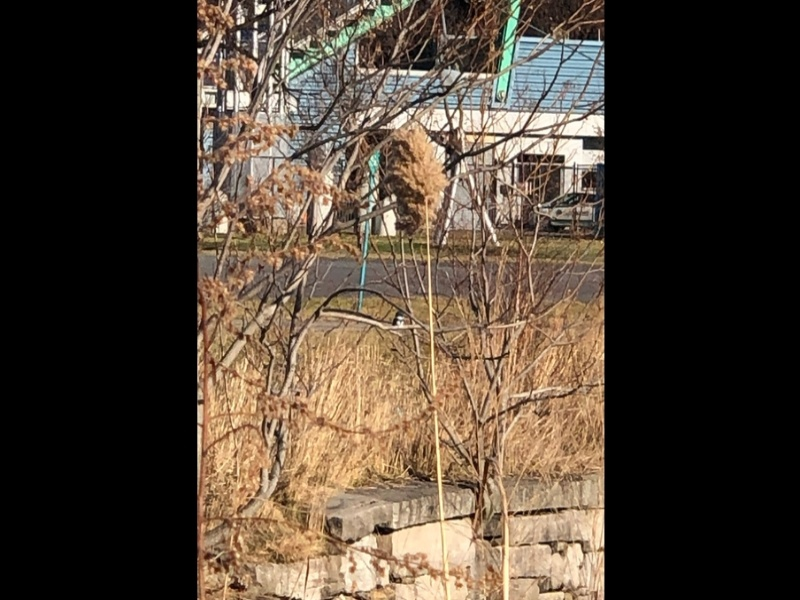kingfisher: (394, 310, 407, 328)
